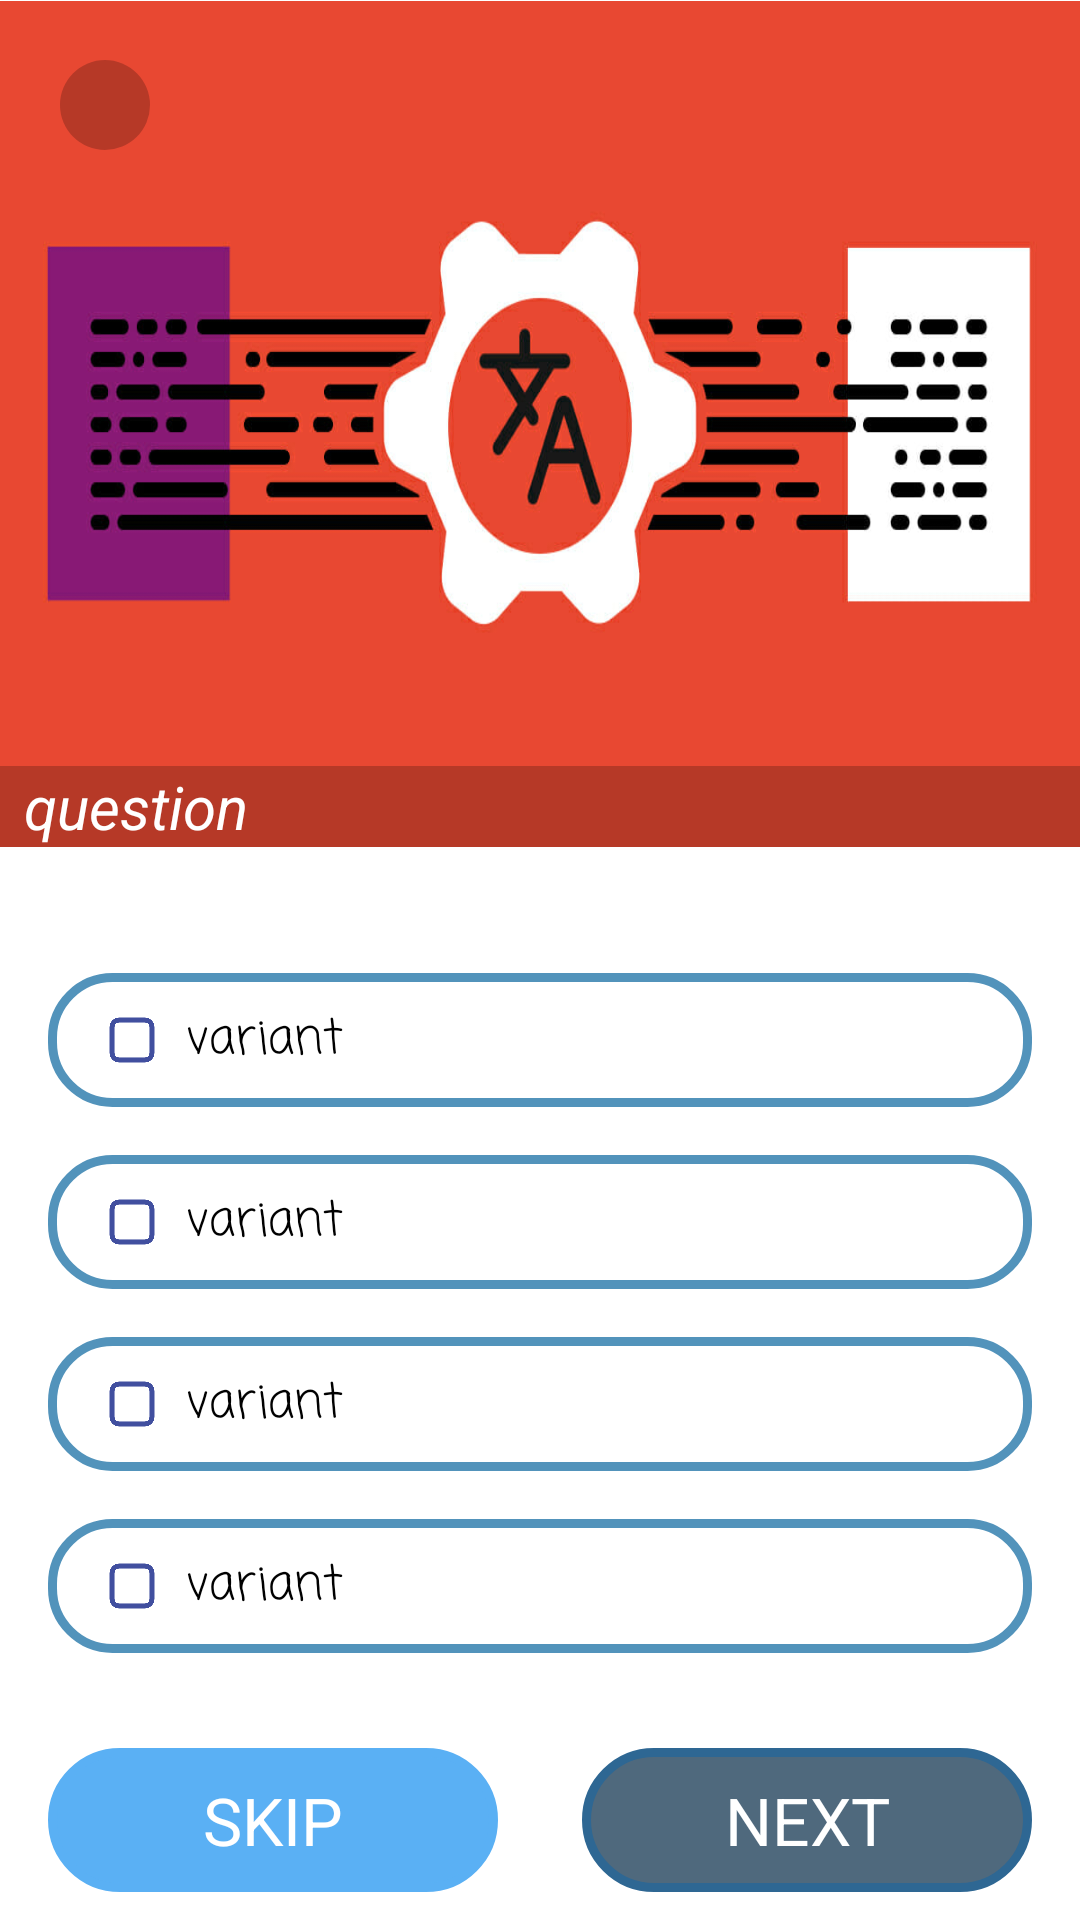

Icon click points for this 1080 x 1920 phone screenshot, format (x,y):
uncheck: (132,1040), (132,1222), (132,1404), (132,1586)
